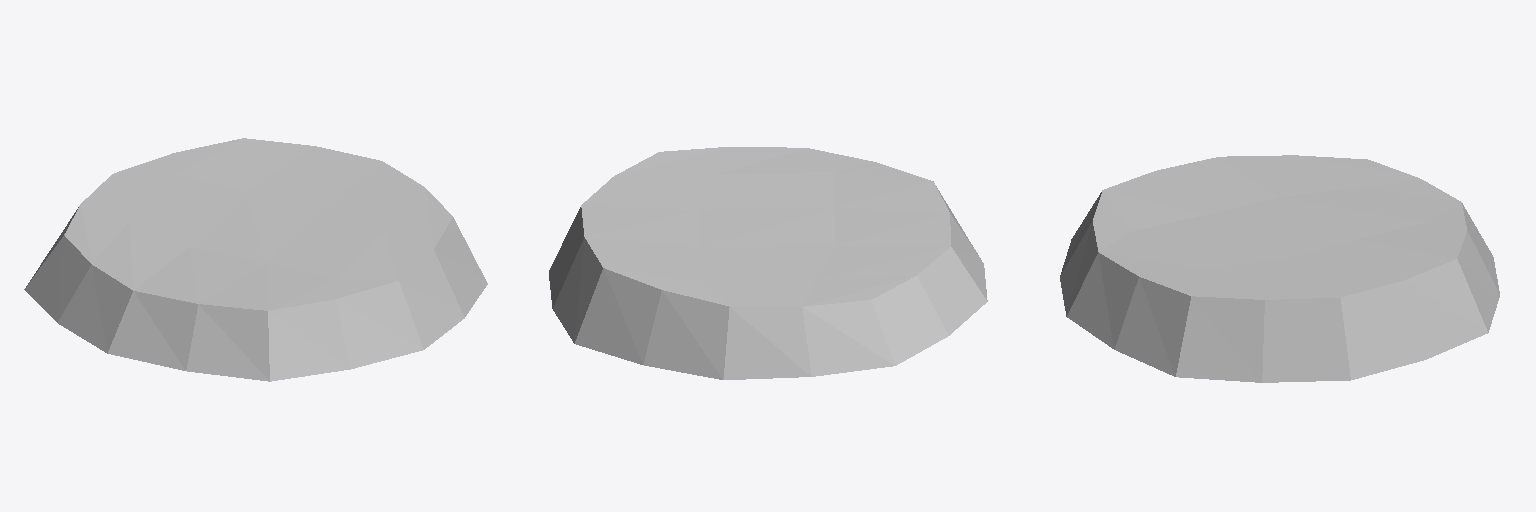
Rendered from slice_03.obj.
The picture shows the model from 3 angles: view 1: azimuth 30°, elevation 25°; view 2: azimuth 150°, elevation 25°; view 3: azimuth 270°, elevation 25°; orthographic projection.
Visible parts, largest first — view 1: Mushroom.004_Cube.015; view 2: Mushroom.004_Cube.015; view 3: Mushroom.004_Cube.015.
Part boxes in pixels (x1,y1,x2,y2): Mushroom.004_Cube.015: (24,138,487,381); Mushroom.004_Cube.015: (549,147,987,379); Mushroom.004_Cube.015: (1060,155,1499,382).
Size of the model in its own units: 1.13 by 0.1979 by 1.14.